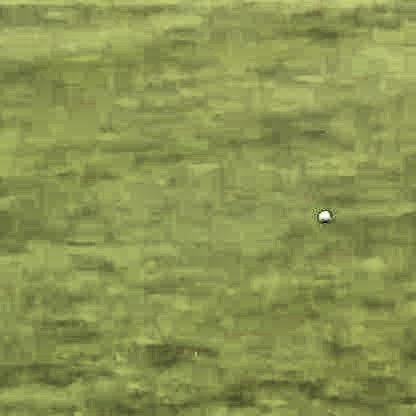golfball: (313, 207, 328, 222)
